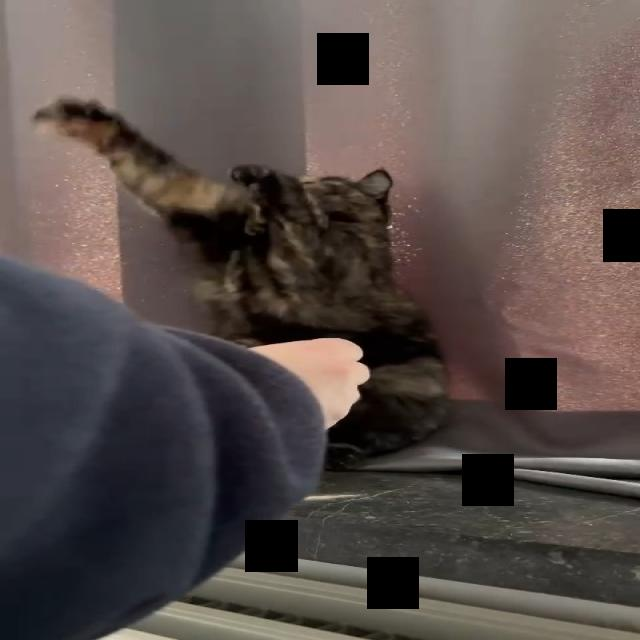authorized: (29, 95, 453, 470)
